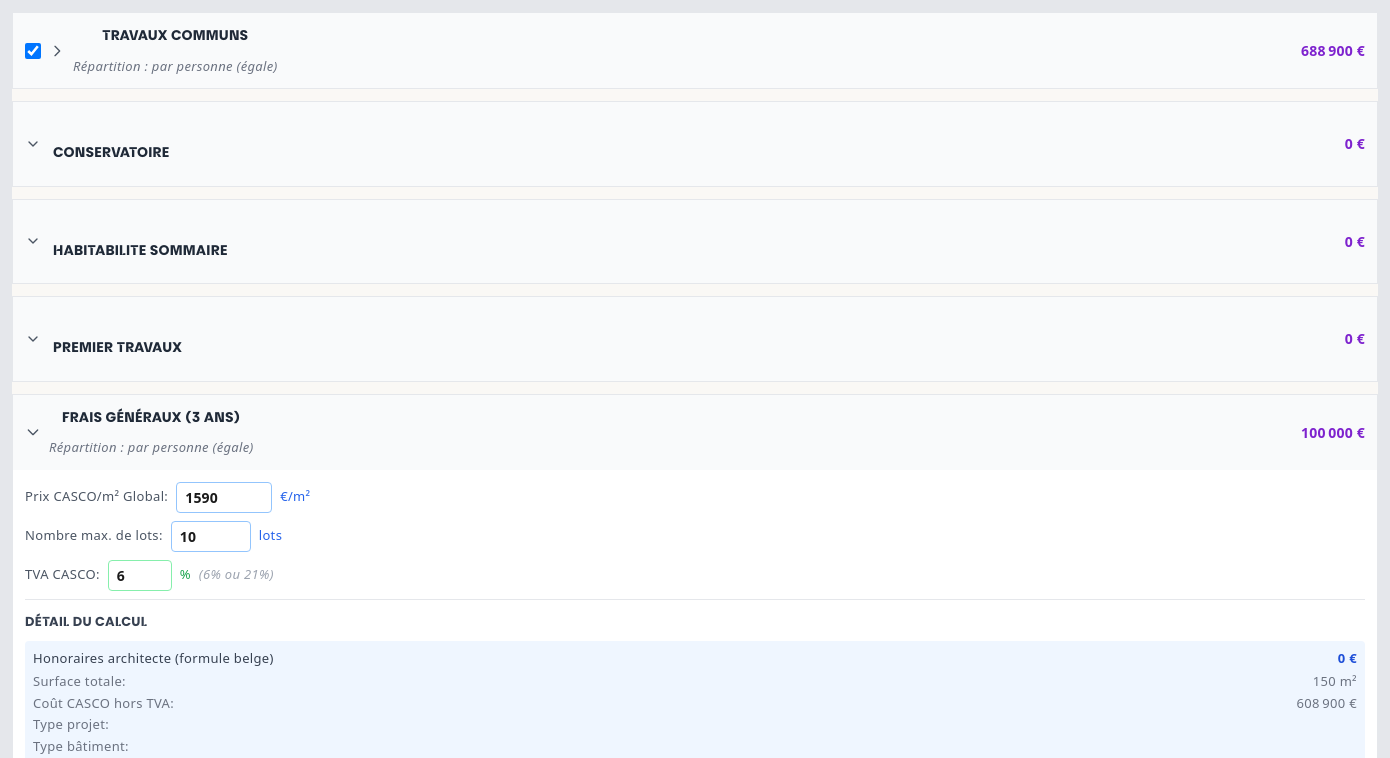
ExpenseCategoriesManager - TRAVAUX COMMUNS Display › shows breakdown when expanded
Note: Click on the TRAVAUX COMMUNS button to expand
Click the heading "TRAVAUX COMMUNS": [175, 35] box [102, 25, 248, 45]
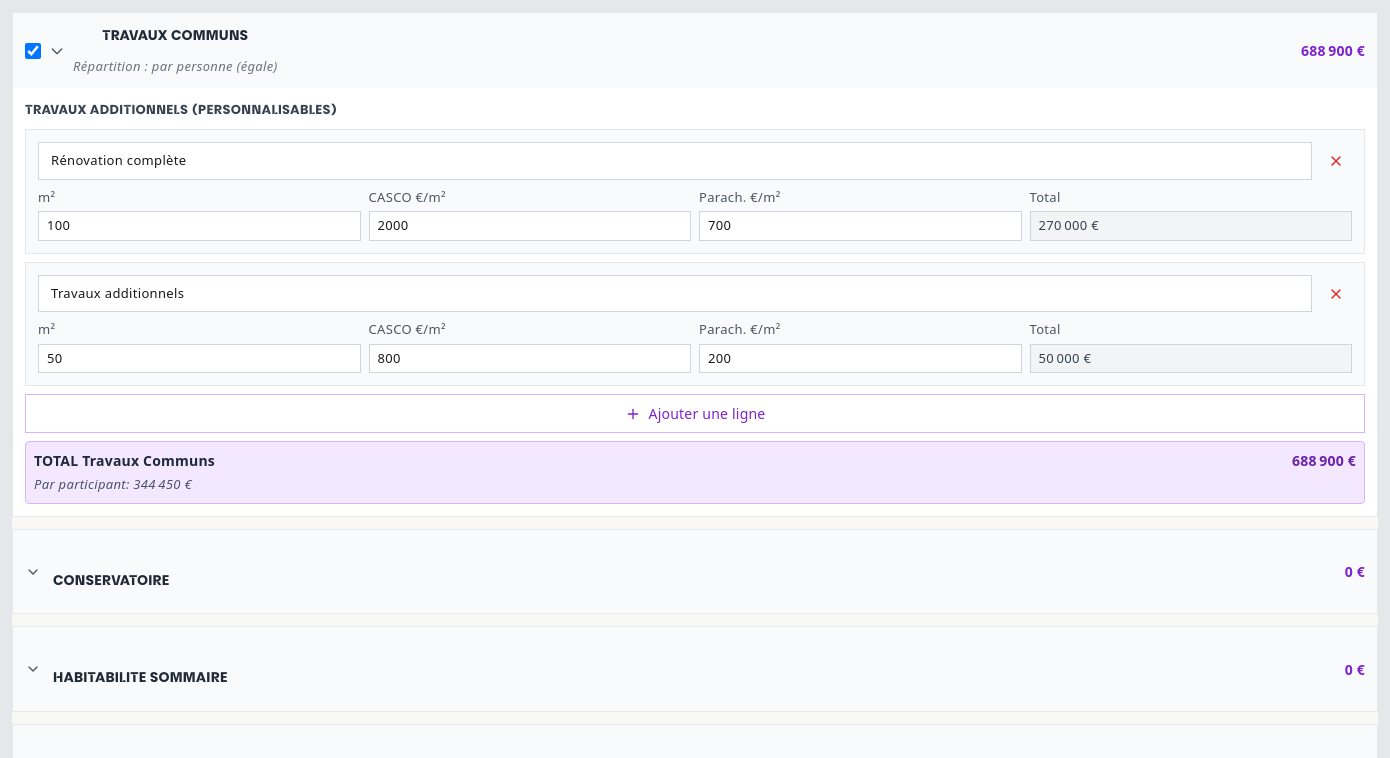
expect the 1st field showing "Rénovation complète" is shown: met, box [38, 142, 1312, 180]
expect the 2nd field showing "Travaux additionnels" is shown: met, box [38, 275, 1312, 312]
expect the 1st number field labelled "m²" is shown: met, box [38, 211, 360, 241]
